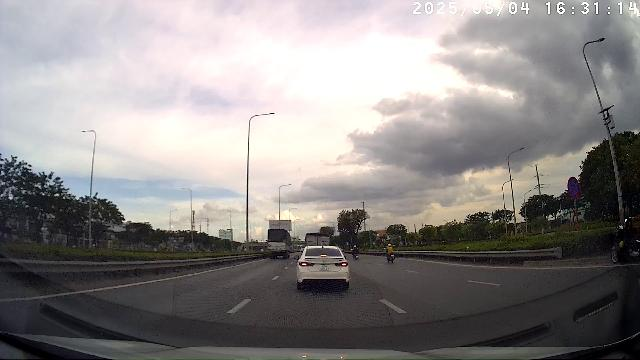130-cam-dung-va-do-xe: (567, 176, 581, 198)
